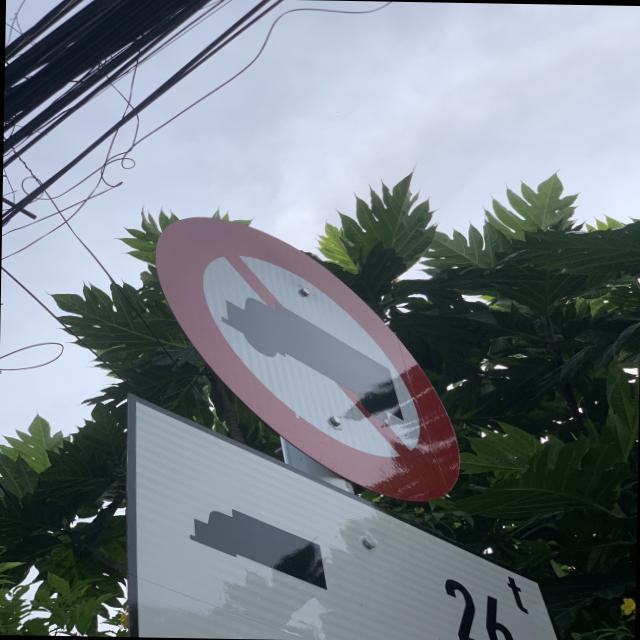Cam_Xe_Tai: (153, 214, 462, 502)
